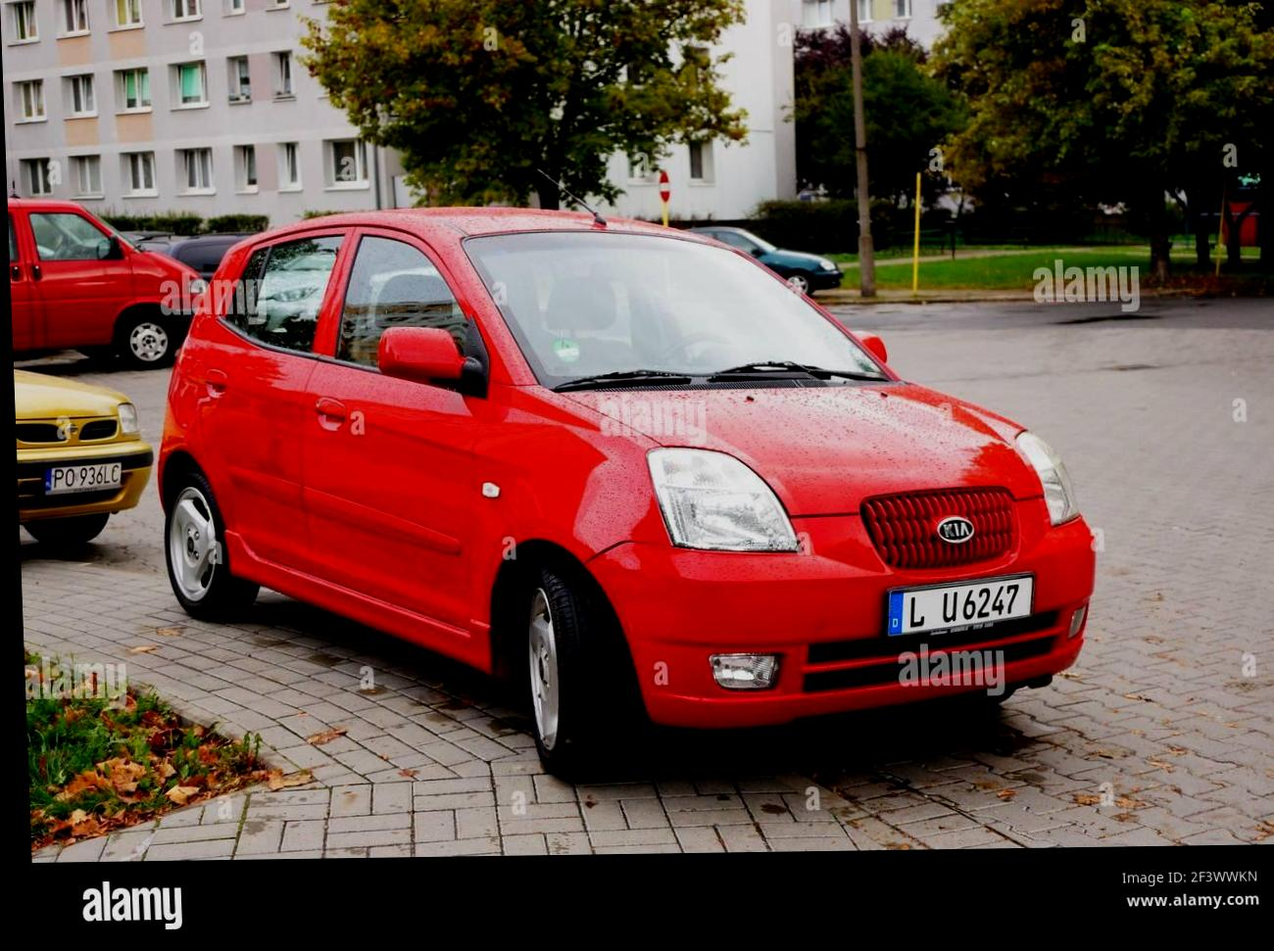License_Plate: (876, 567, 1055, 646)
